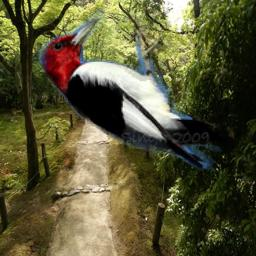Woodpecker: (18, 8, 245, 179)
